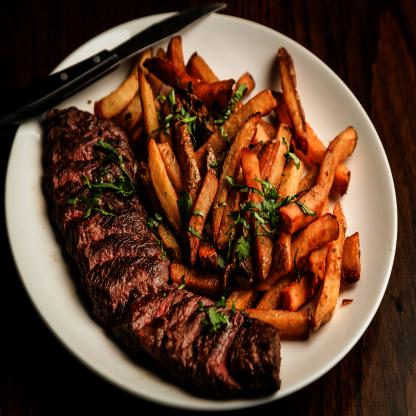Carne: (86, 254, 169, 317), (68, 212, 149, 263), (81, 238, 170, 283), (140, 297, 204, 356), (110, 286, 186, 334), (57, 184, 138, 228), (232, 324, 284, 387), (198, 323, 243, 394), (171, 309, 213, 382), (49, 118, 95, 161), (52, 159, 94, 183)
